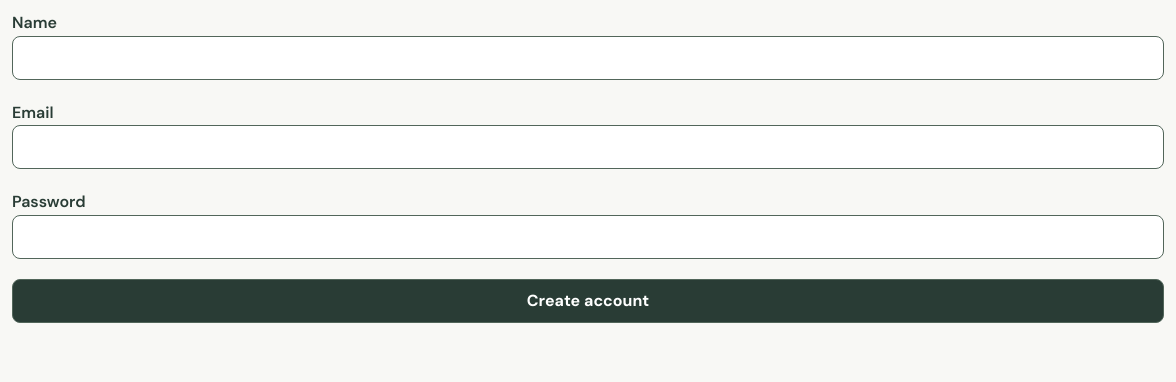
Test case: account forms › submits sign-up and announces verification without exposing server details
Type "Synthetic Partner" into the field labelled "Name" at (588, 58), box [12,36,1164,80]
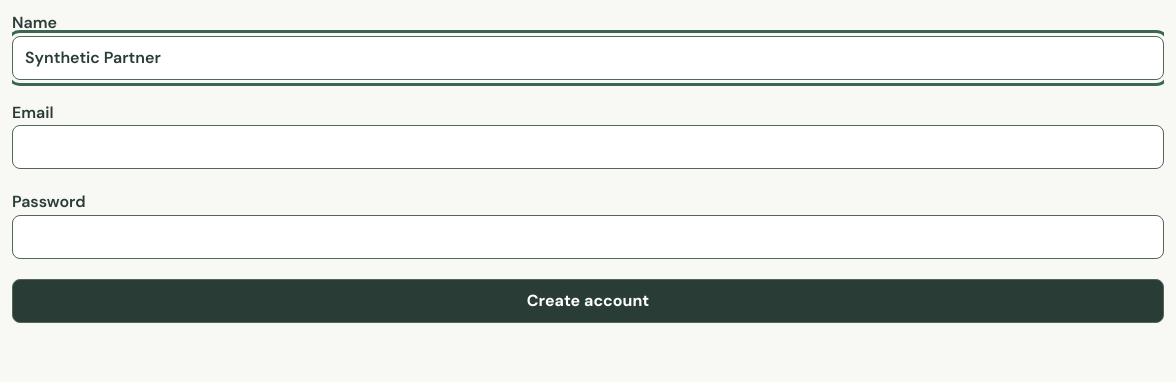
Type "partner@example.test" into the field labelled "Email" at (588, 147), box [12,125,1164,169]
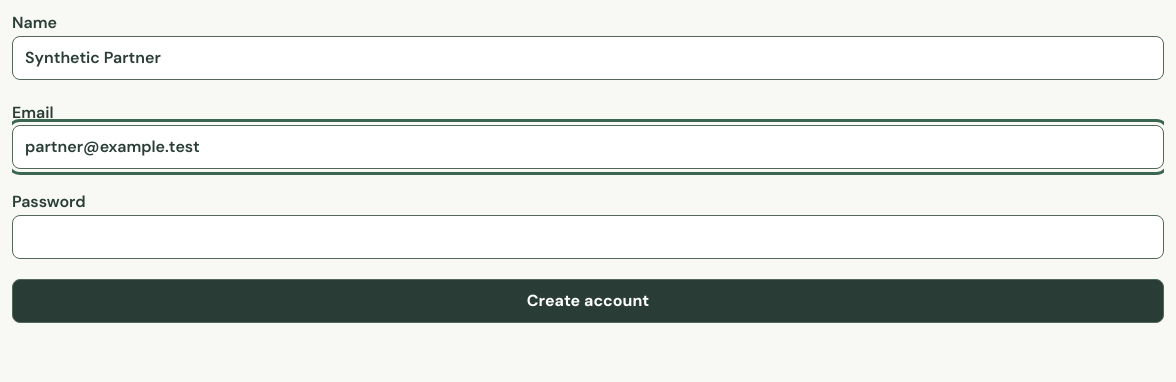
Type "synthetic-passphrase-123" into the password field labelled "Password" at (588, 237), box [12,215,1164,259]
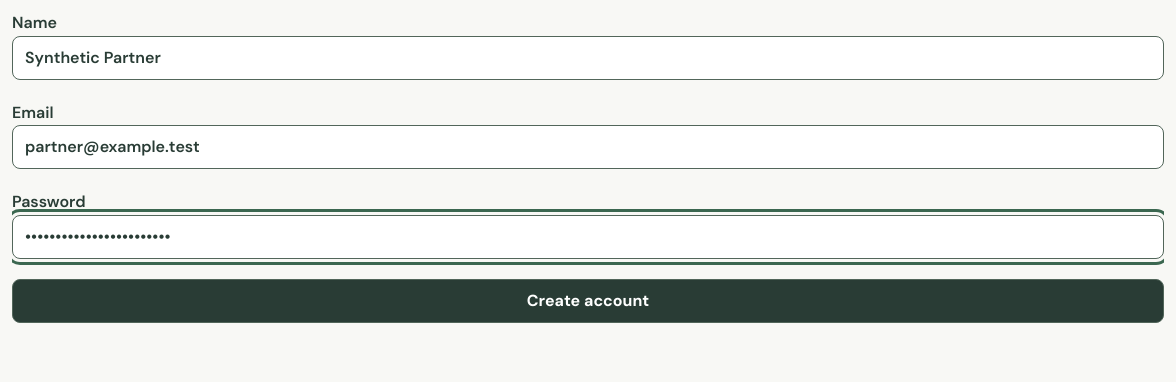
Click the button "Create account" at (588, 301), box [12,279,1164,323]
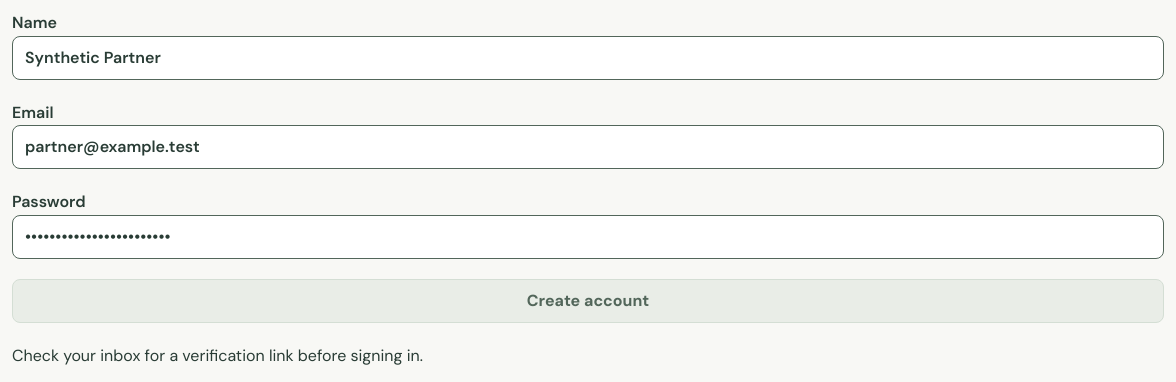
Now the message reads "Check your inbox for a verification link before signing in.", box [12,345,423,366]
